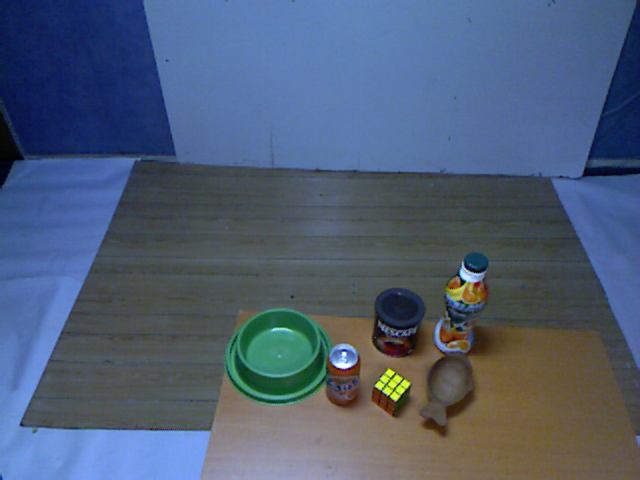cafe: (367, 287, 427, 363)
cubix: (369, 368, 417, 420)
lata: (322, 342, 364, 413)
pescado: (416, 350, 480, 433)
platoperro: (222, 305, 336, 411)
yogurt: (432, 251, 498, 358)
